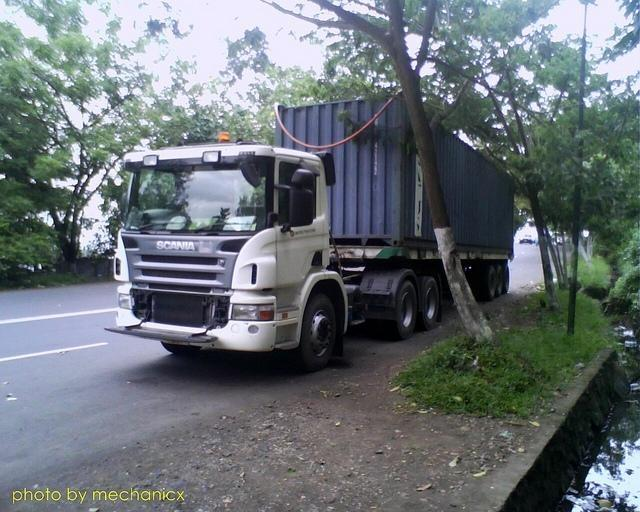truck: (114, 100, 465, 377)
